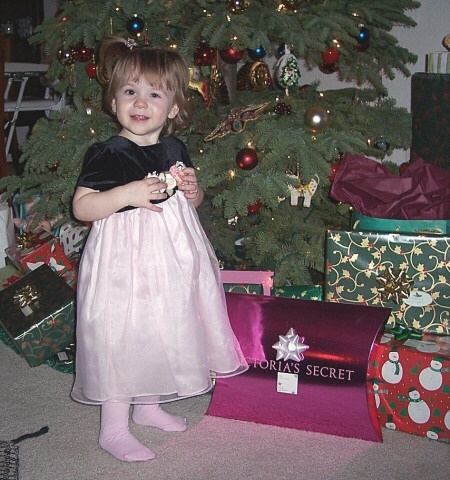head: (111, 45, 185, 133)
person: (67, 30, 243, 463)
